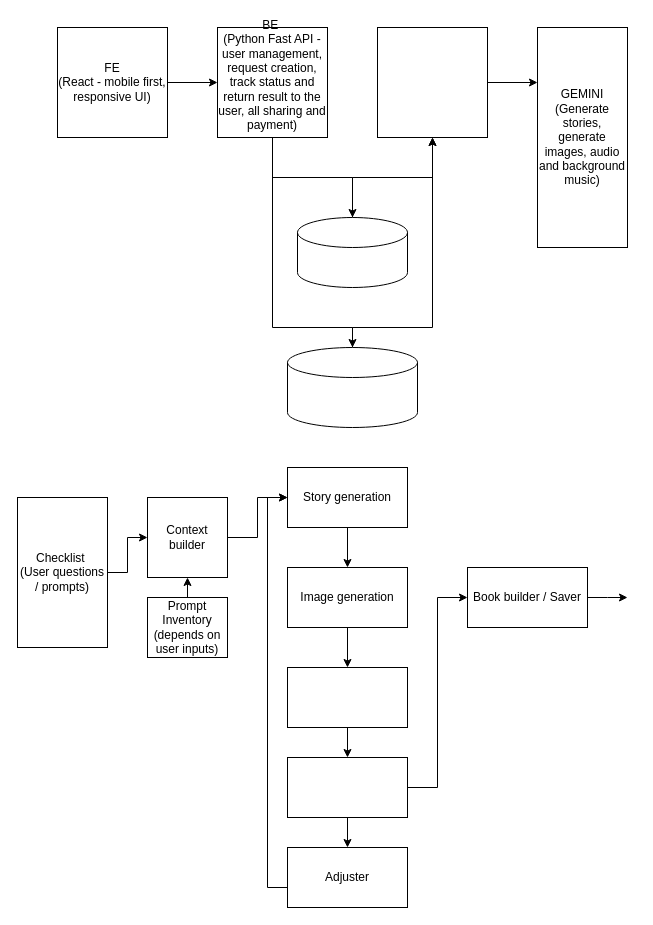
This 653x925 diagram has some shape labels left out. Here are the shapes that lost their labels. From the top down, the box of each, then its label:
(376, 26, 488, 138): BE Async processing (Python AI and storage logic)
(296, 216, 408, 288): Mongo DB (Store books, users, payments)
(286, 346, 418, 428): S3 (Store images, audios)
(286, 666, 408, 728): Background Music generation
(286, 756, 408, 818): Voice generation
